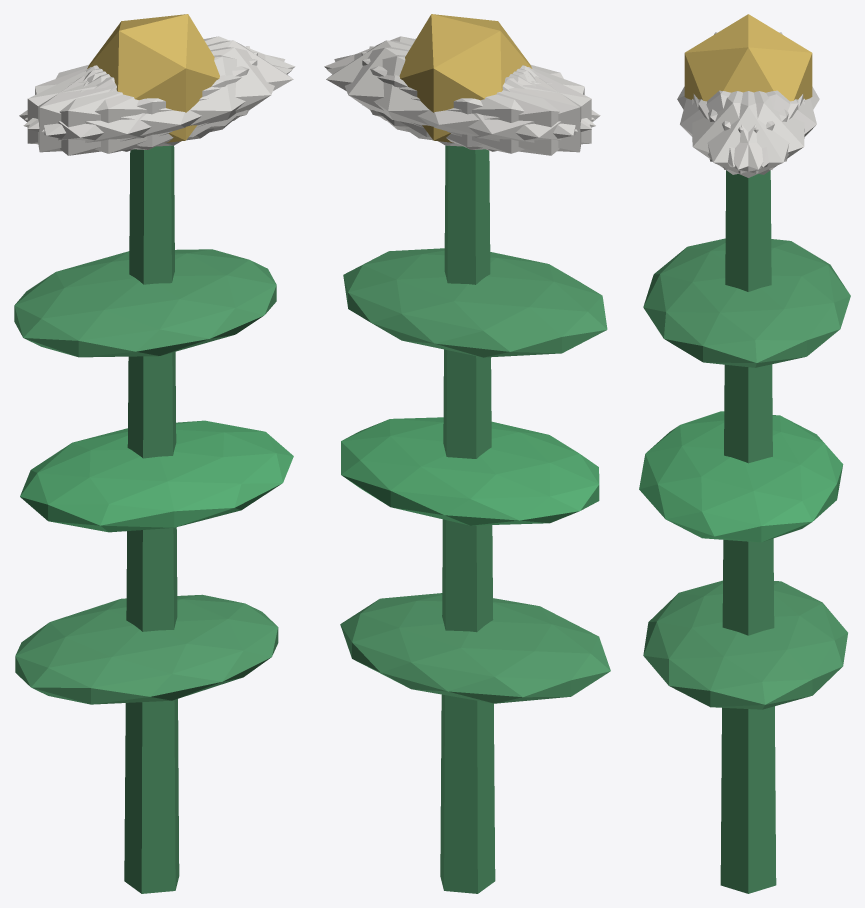
File: tecoma-stans.glb
The picture shows the model from 3 angles, left to right: view 1: azimuth 30°, elevation 25°; view 2: azimuth 150°, elevation 25°; view 3: azimuth 270°, elevation 25°; orthographic projection.
Parts seen in each view (by area): view 1: stem, leaf1, leaf2, leaf0, center, petal1, petal6, petal2, petal5, petal7, petal0, petal4 (+2 smaller); view 2: stem, leaf2, leaf0, leaf1, center, petal8, petal3, petal7, petal4, petal2, petal0, petal5 (+2 smaller); view 3: stem, leaf2, leaf1, leaf0, center, petal0, petal4, petal5, petal8, petal1.
Boxes of the visible parts, x1,y1,x2,y2 form: stem: [124, 145, 179, 893]; leaf1: [20, 420, 293, 532]; leaf2: [14, 249, 276, 357]; leaf0: [15, 594, 278, 704]; center: [87, 14, 219, 142]; petal1: [23, 55, 292, 153]; petal6: [19, 67, 213, 155]; petal2: [38, 46, 249, 152]; petal5: [41, 47, 285, 146]; petal7: [27, 52, 257, 149]; petal0: [87, 40, 293, 137]; petal4: [24, 36, 295, 129]; stem: [440, 145, 495, 893]; leaf2: [343, 248, 607, 357]; leaf0: [340, 593, 610, 703]; leaf1: [341, 417, 599, 525]; center: [399, 14, 532, 142]; petal8: [326, 55, 595, 153]; petal3: [405, 67, 600, 155]; petal7: [369, 46, 581, 152]; petal4: [334, 47, 577, 146]; petal2: [361, 52, 591, 149]; petal0: [326, 40, 532, 137]; petal5: [324, 36, 594, 129]; stem: [720, 170, 776, 893]; leaf2: [643, 238, 850, 367]; leaf1: [639, 411, 843, 542]; leaf0: [643, 580, 847, 709]; center: [684, 14, 812, 101]; petal0: [693, 91, 803, 177]; petal4: [698, 91, 804, 174]; petal5: [692, 91, 798, 174]; petal8: [708, 90, 816, 167]; petal1: [680, 90, 788, 167].
Bounding box in the file's own units: 0.1494 × 0.4501 × 0.1016.
